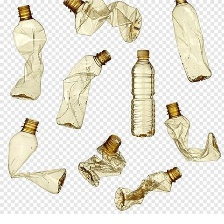bottle: (3, 114, 71, 196), (52, 46, 114, 131), (164, 0, 216, 85), (9, 1, 47, 103), (162, 101, 222, 165), (109, 163, 183, 214), (61, 0, 146, 43), (74, 131, 130, 188), (128, 46, 160, 141)
